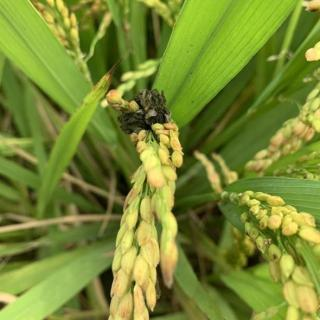Gosong-Palsu: (116, 88, 174, 136)
